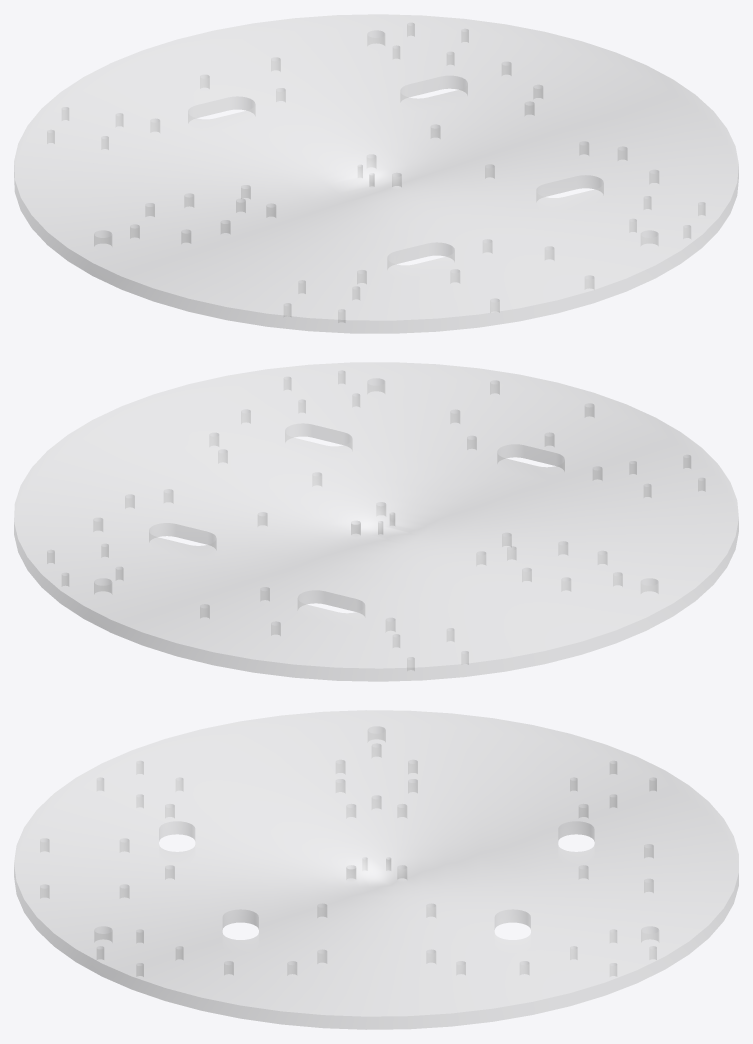
3 views of the same model, one above another, from view 1: azimuth 30°, elevation 25°; view 2: azimuth 150°, elevation 25°; view 3: azimuth 270°, elevation 25° (orthographic).
Parts seen in each view (by area): view 1: alpha3_bottom_plate-1 - Part_clonedChild, alpha3_bottom_plate-1 - Part; view 2: alpha3_bottom_plate-1 - Part_clonedChild, alpha3_bottom_plate-1 - Part; view 3: alpha3_bottom_plate-1 - Part_clonedChild, alpha3_bottom_plate-1 - Part.
Part boxes in pixels (x1,y1,x2,y2): alpha3_bottom_plate-1 - Part_clonedChild: (14,14,738,333); alpha3_bottom_plate-1 - Part: (14,15,738,332); alpha3_bottom_plate-1 - Part_clonedChild: (14,362,738,681); alpha3_bottom_plate-1 - Part: (14,363,738,680); alpha3_bottom_plate-1 - Part_clonedChild: (14,710,738,1029); alpha3_bottom_plate-1 - Part: (14,710,738,1029).
Bounding box in the file's own units: 0.3998 × 0.008 × 0.3996.
Materials: 1 (1 with a texture image).
